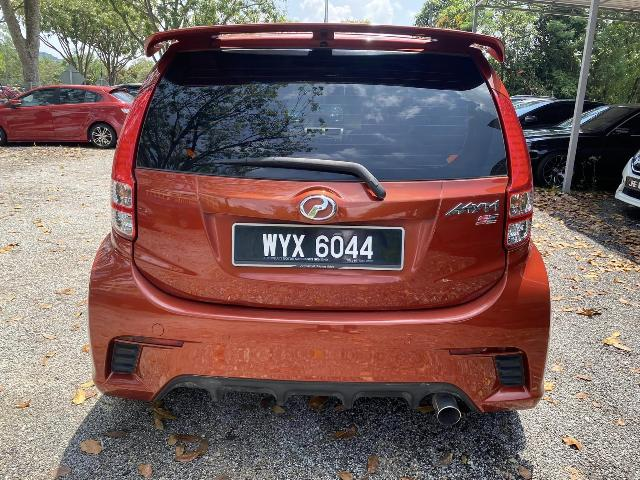License_Plate: (234, 227, 404, 268)
car: (83, 18, 553, 426)
